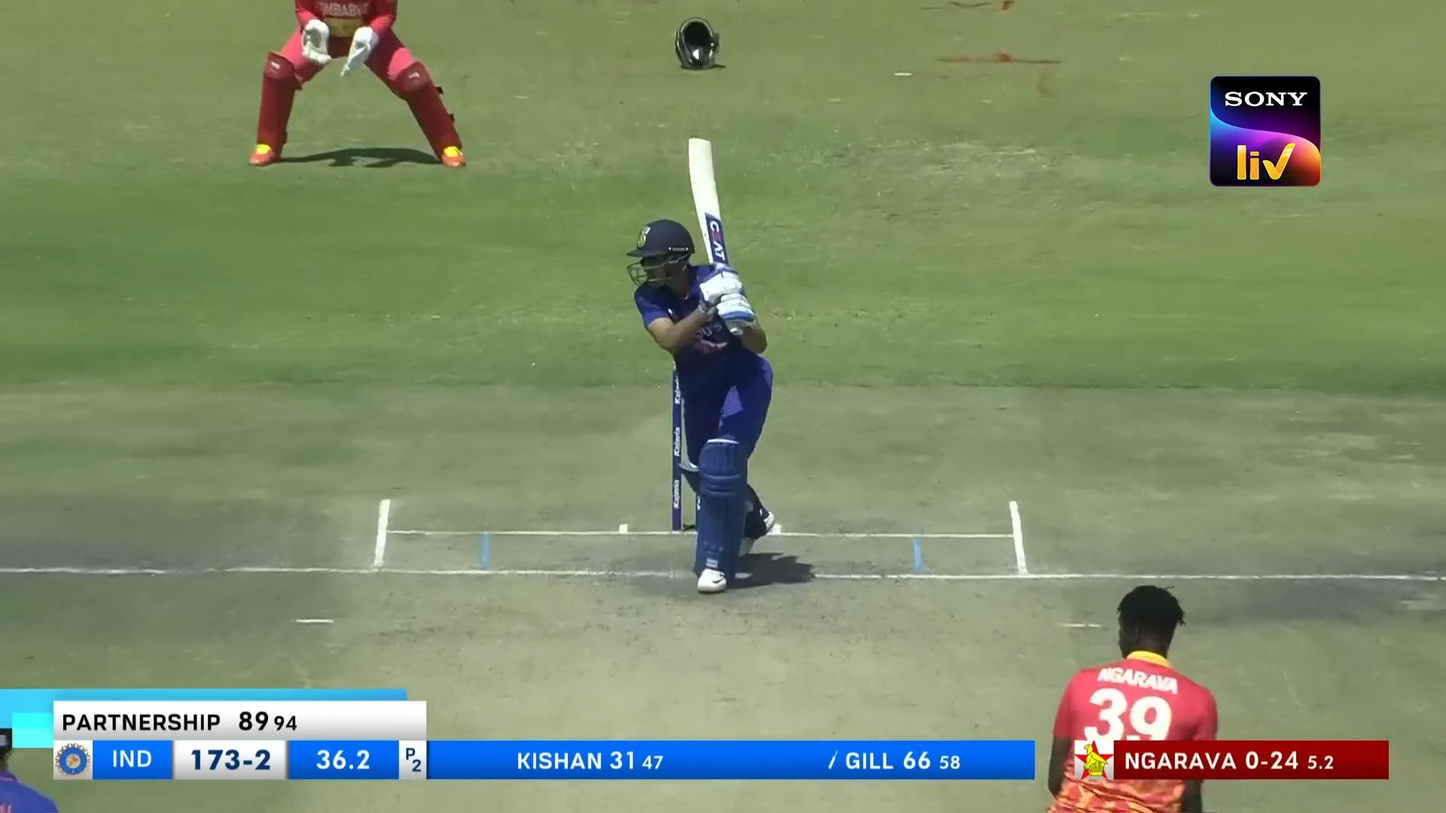batsman: (628, 137, 774, 594)
